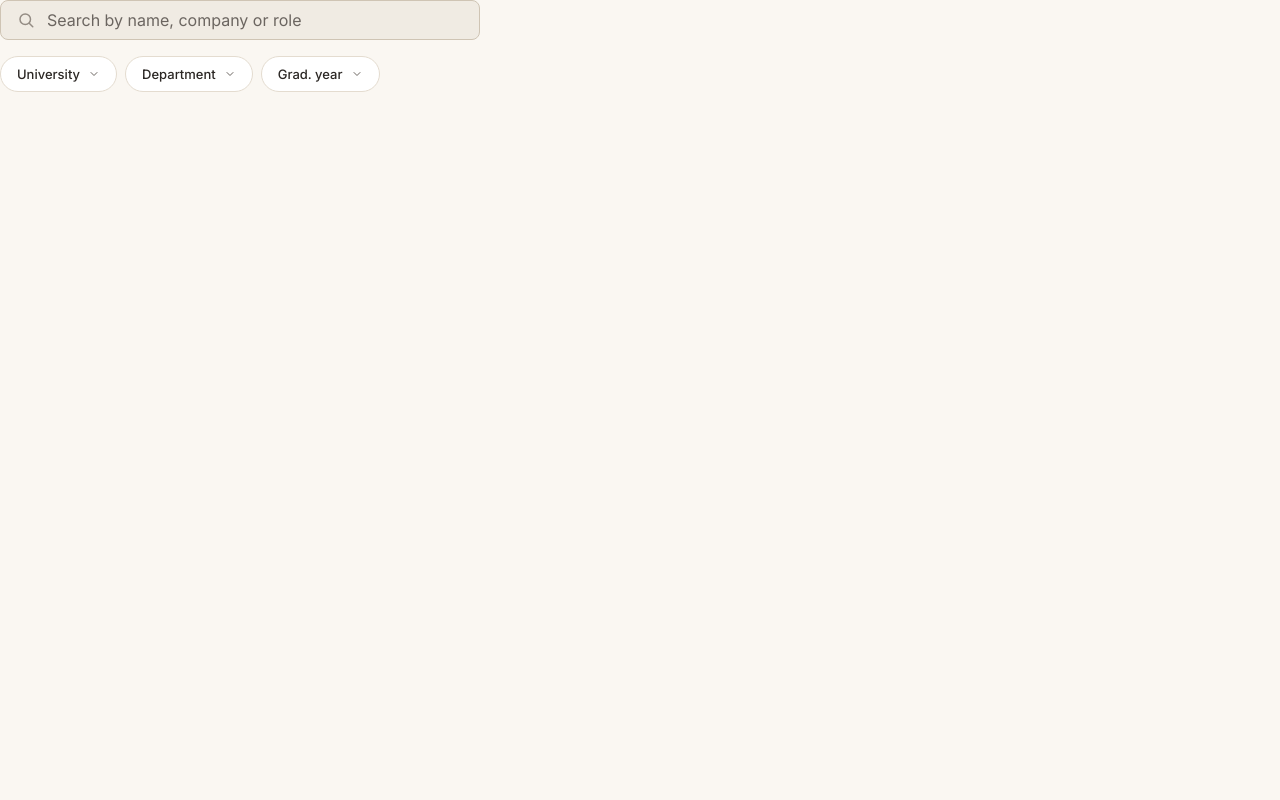
Test case: FilterBar › sets Grad. year with Enter: URL, chip, page reset and focus on the chip remove button
Click the button "Grad. year".
click(320, 74)  # box [261, 56, 380, 92]
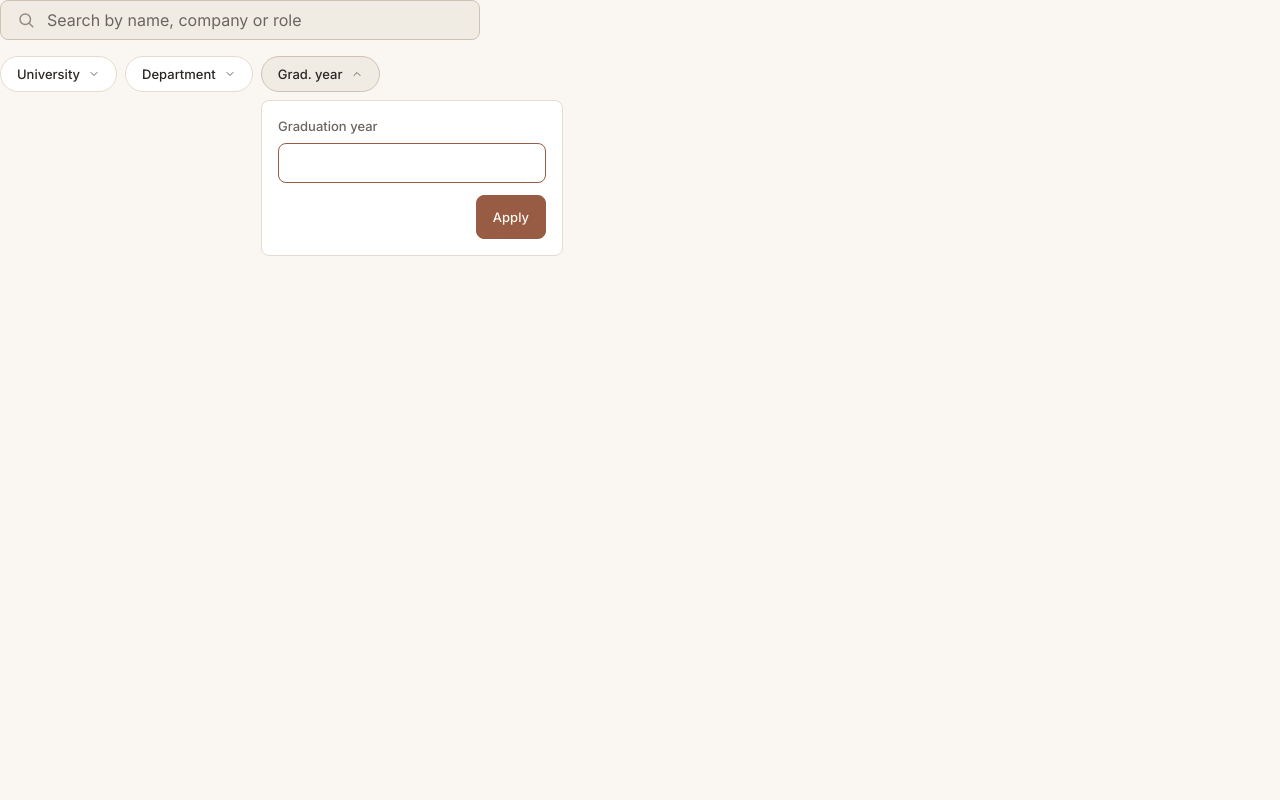
Type "2017" into the field labelled "Graduation year".
click(412, 163); type("2017")  # box [278, 143, 546, 183]
Then press Enter
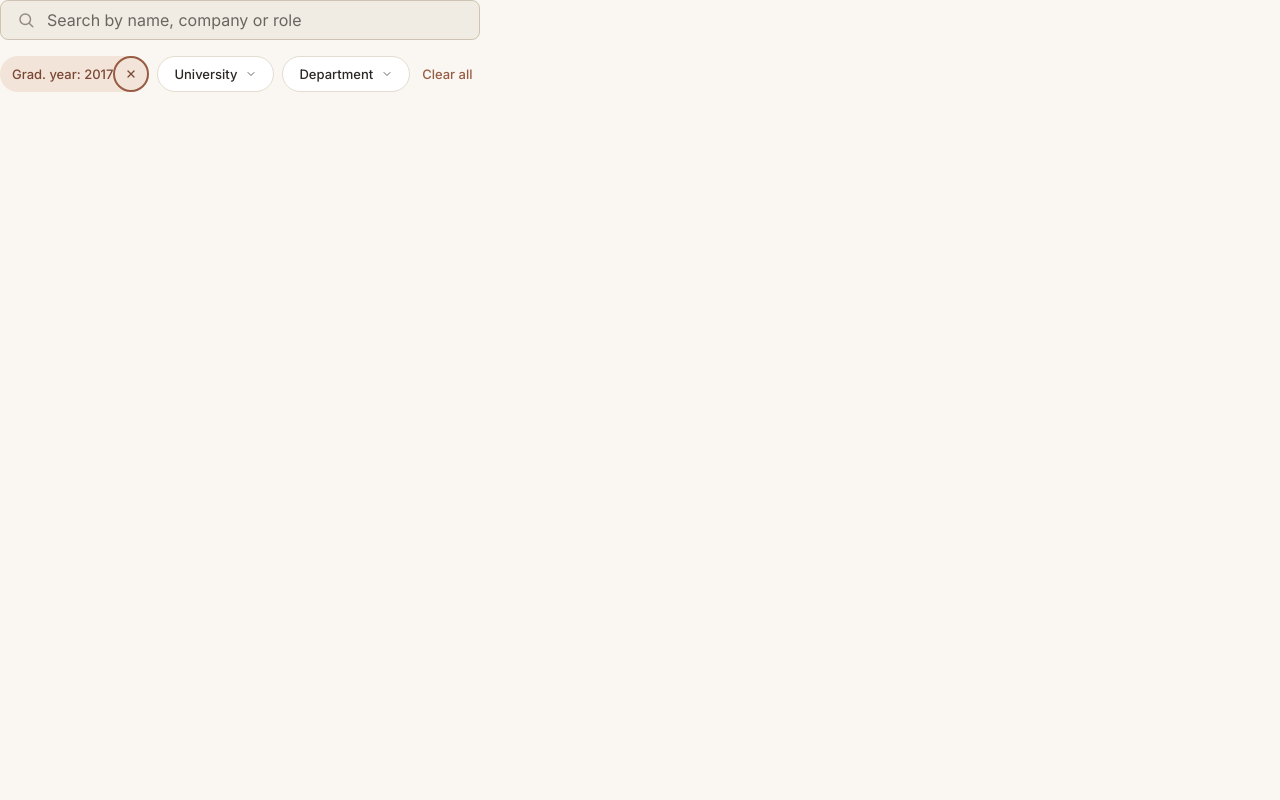
Expected: the dialog is gone
